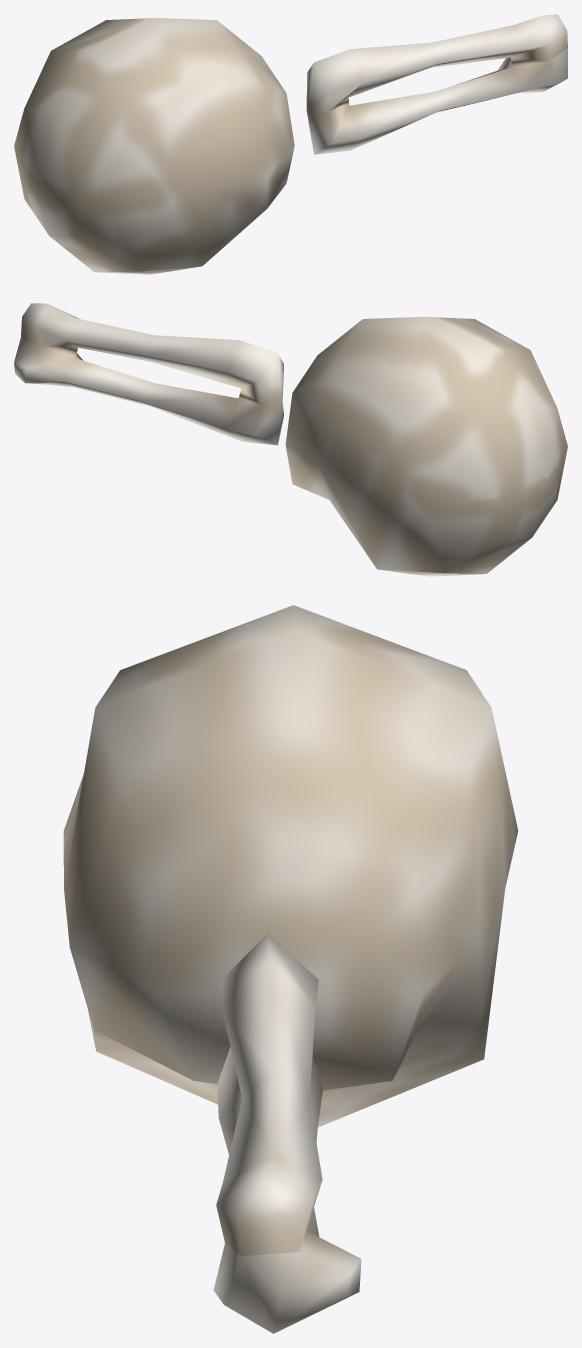
Rendered from Forearm.fbx.
3 views of the same model, one above another, from view 1: azimuth 30°, elevation 25°; view 2: azimuth 150°, elevation 25°; view 3: azimuth 270°, elevation 25° (orthographic). The views are drawn at different scales.
Visible parts, largest first — view 1: Forearm; view 2: Forearm; view 3: Forearm.
Part boxes in pixels (x1,y1,x2,y2): Forearm: [14, 14, 567, 274]; Forearm: [14, 303, 567, 576]; Forearm: [63, 605, 518, 1333].
Bounding box in the file's own units: 32.9 × 15.3 × 12.32.
